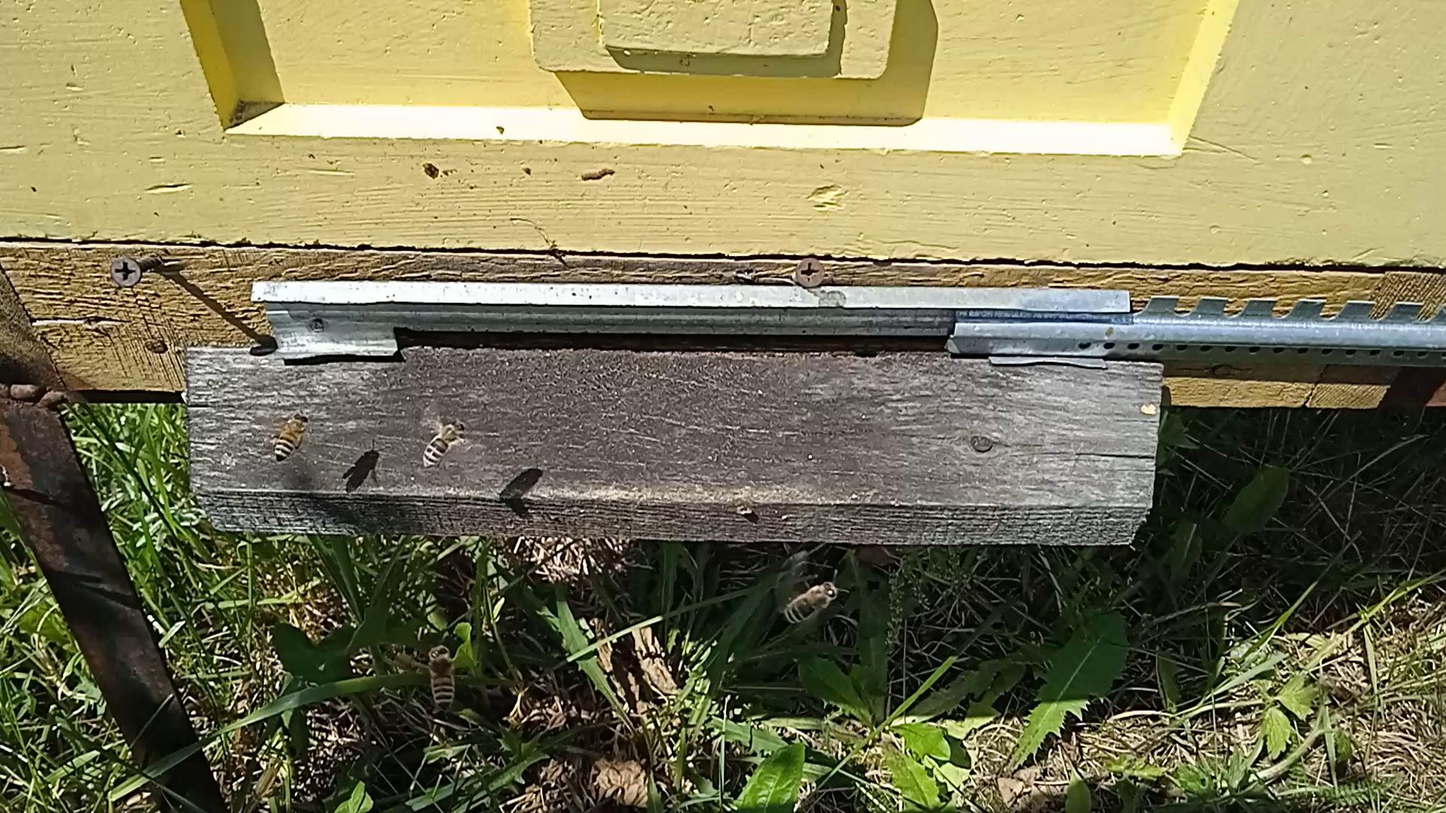worker-bee: (782, 581, 839, 625), (427, 644, 458, 712), (422, 420, 465, 466), (272, 411, 311, 461)
